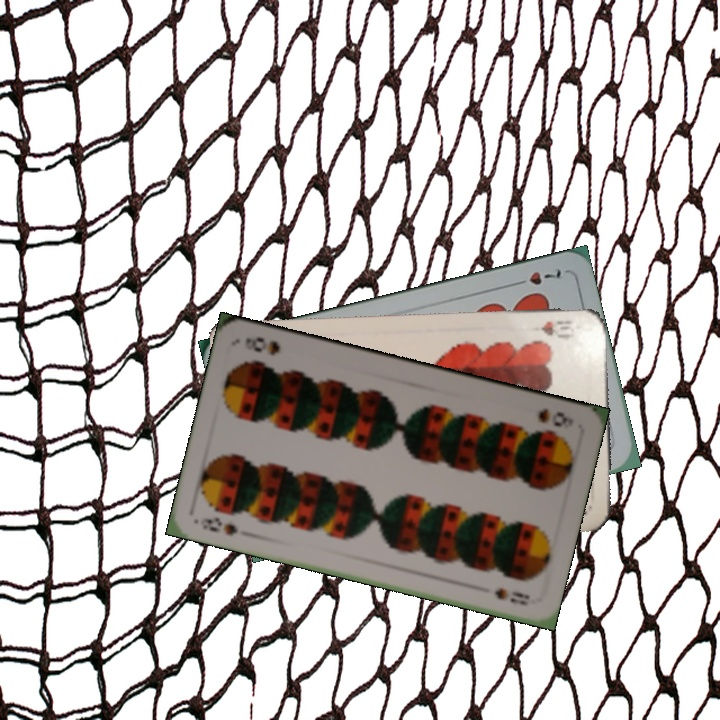H10: (537, 317, 577, 340)
H7: (508, 265, 564, 289)
S8: (196, 513, 240, 538), (534, 404, 570, 430)
